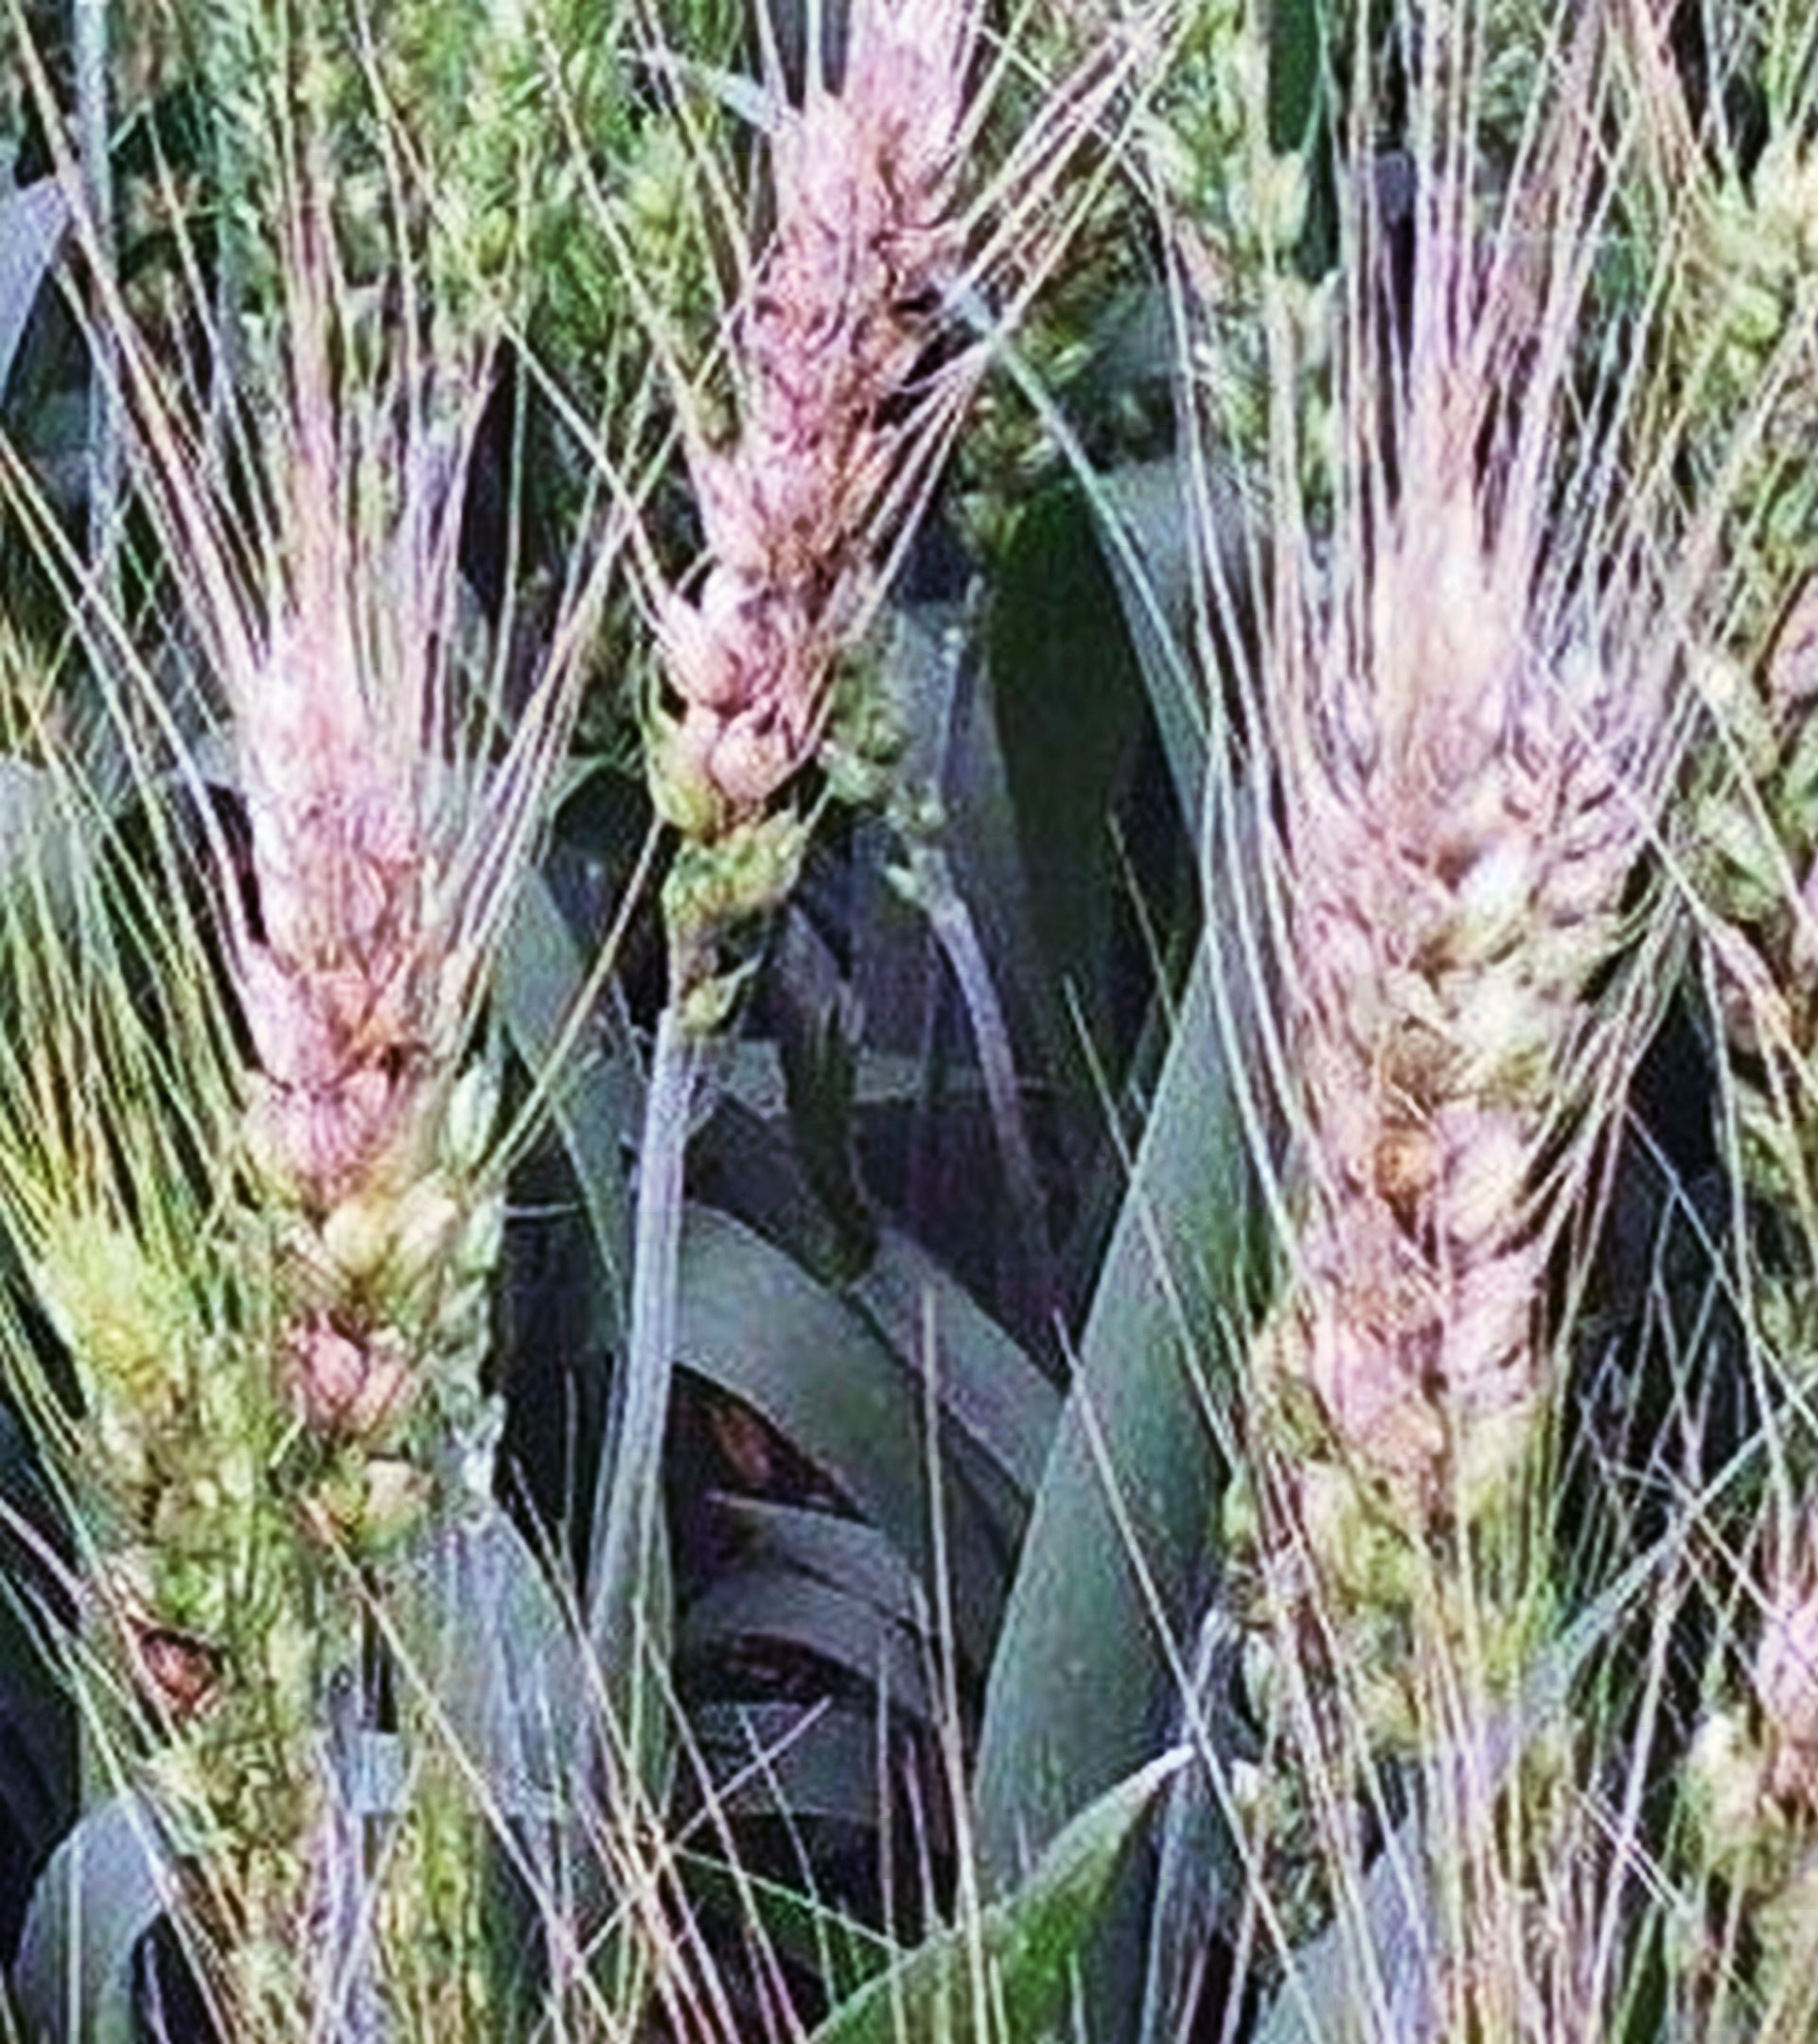Wheat scab: (609, 75, 983, 1005), (218, 582, 474, 1509)
